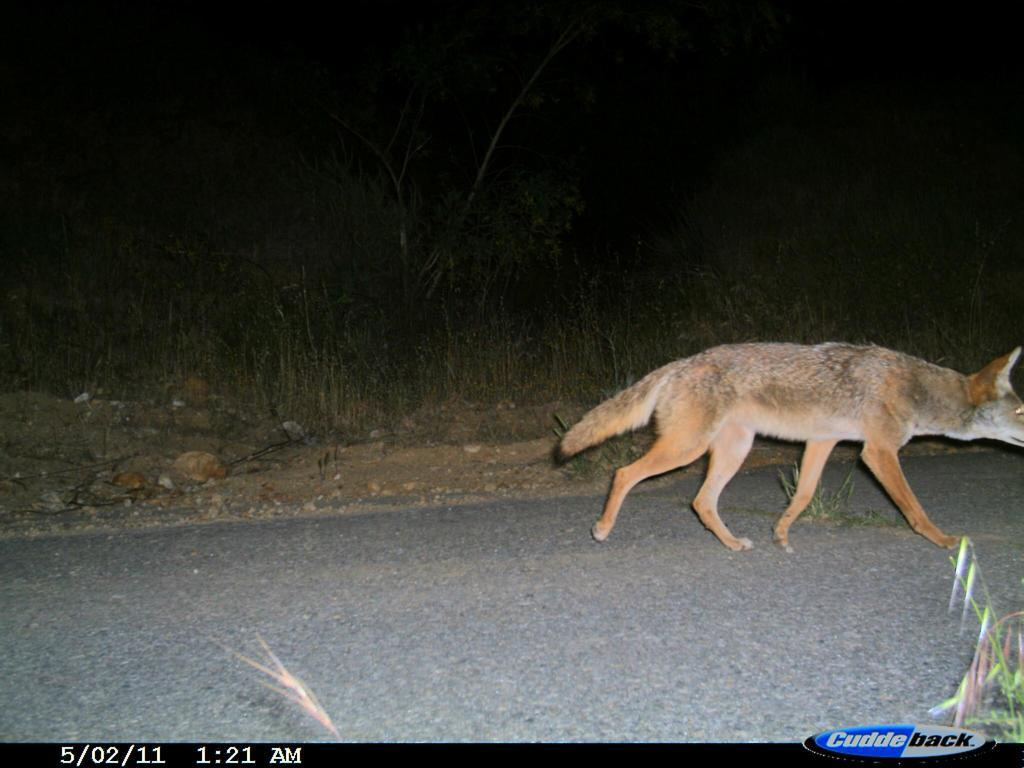coyote: (540, 328, 1024, 563)
